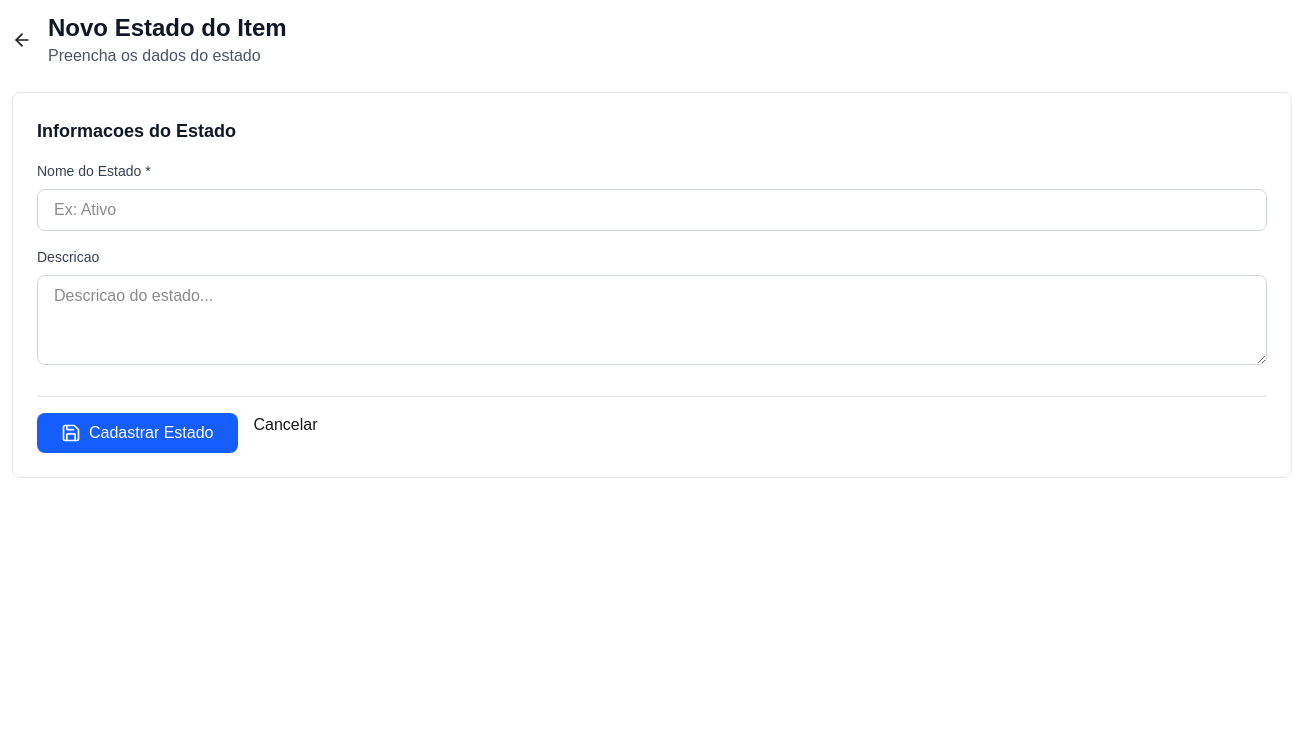
Scenario: EstadoItemForm › exibe erro de conflito ao receber 409
The image size is (1292, 732).
Type "Ativo" into the field with placeholder "Ex: Ativo" at (652, 210), box [37,189,1267,231]
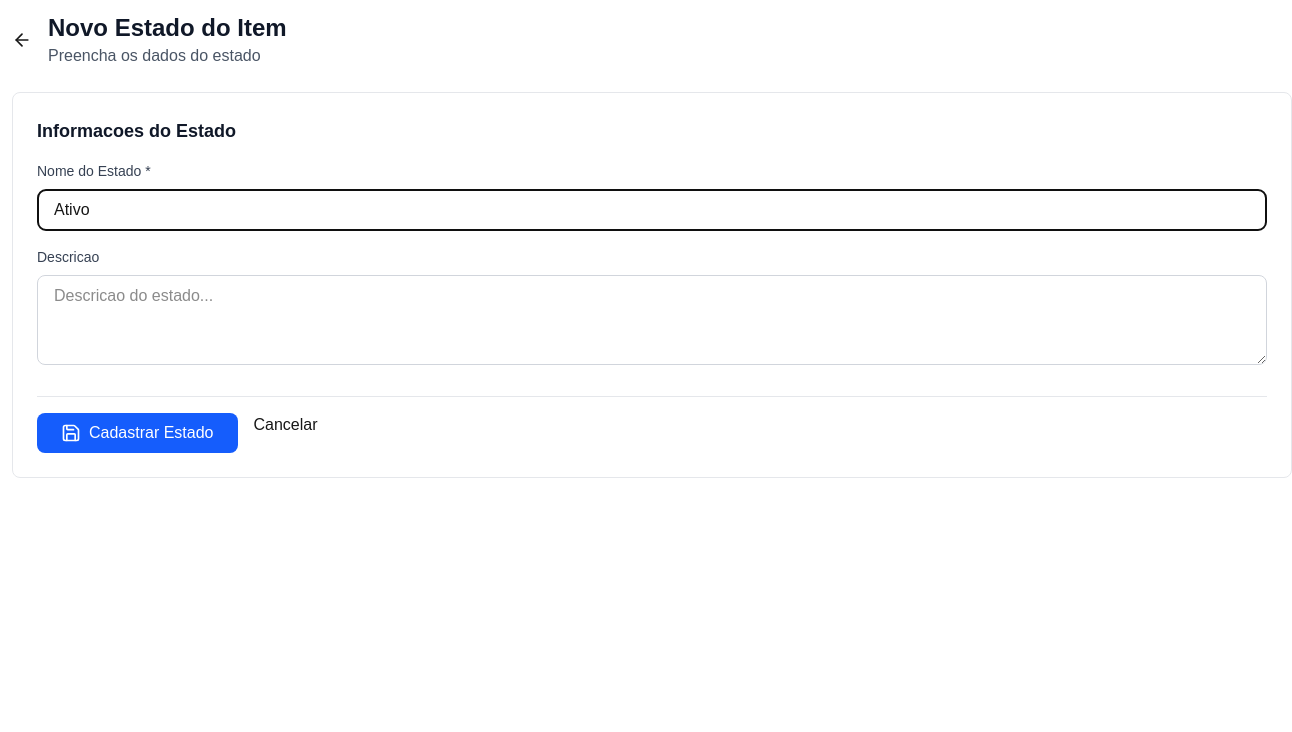
Click the button "Cadastrar Estado" at (137, 433), box [37,413,238,453]
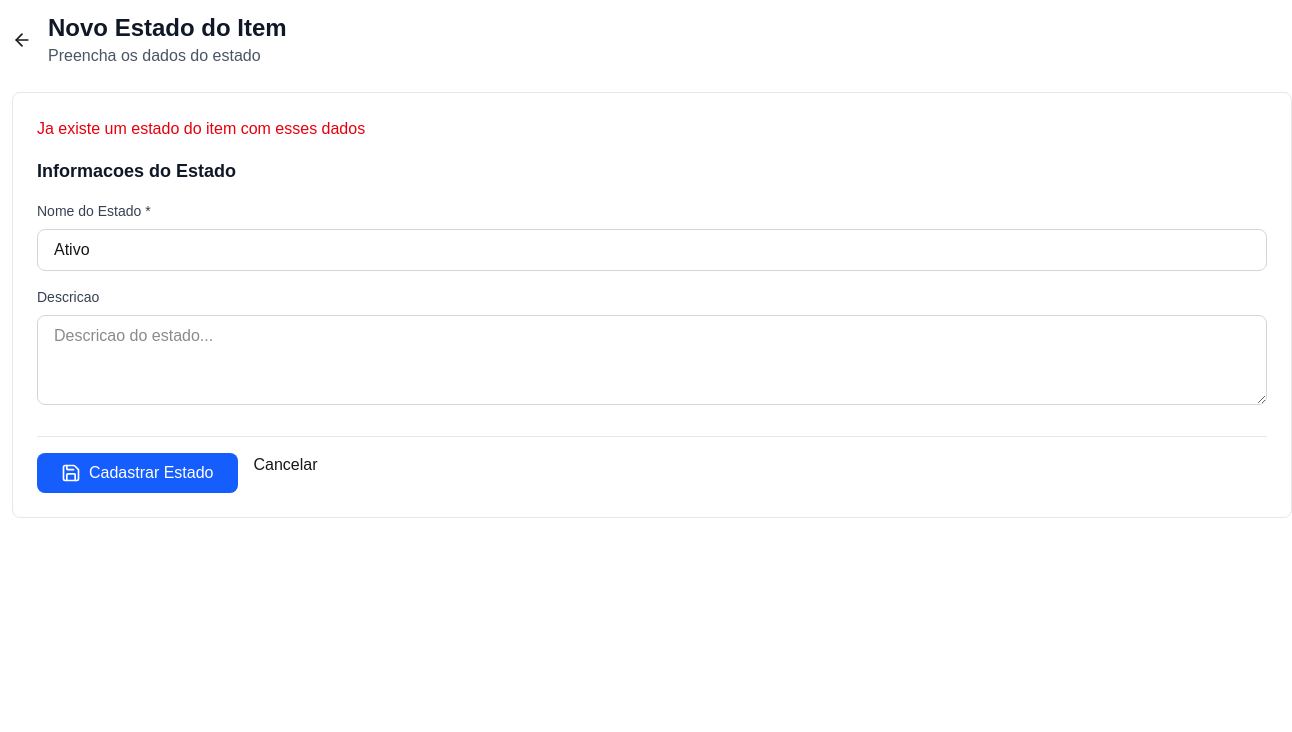
Now the text "Ja existe um estado do item com esses dados" is shown, box [37,120,365,137]
